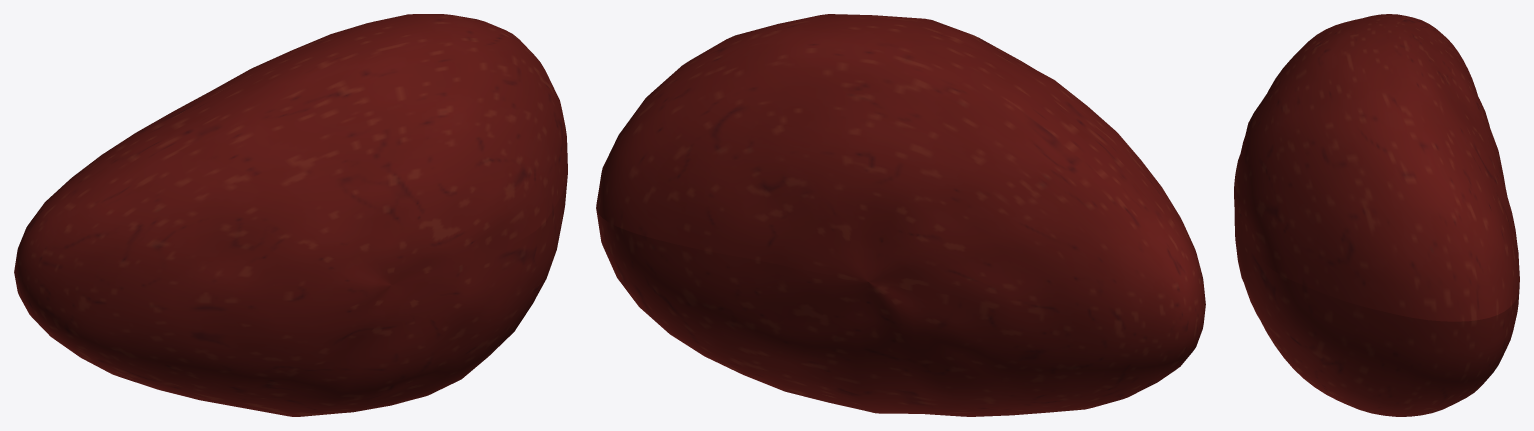
File: liver_healthy.obj
3 renders of one model, left to right at view 1: azimuth 30°, elevation 25°; view 2: azimuth 150°, elevation 25°; view 3: azimuth 270°, elevation 25°, orthographic. The views are drawn at different scales.
Visible parts, largest first — view 1: LiverMesh; view 2: LiverMesh; view 3: LiverMesh.
Boxes of the visible parts, x1,y1,x2,y2 form: LiverMesh: (14,14,567,416); LiverMesh: (596,14,1205,416); LiverMesh: (1234,14,1519,416).
Bounding box in the file's own units: 4.05 × 2.53 × 1.98.
Materials: 1 (1 with a texture image).
